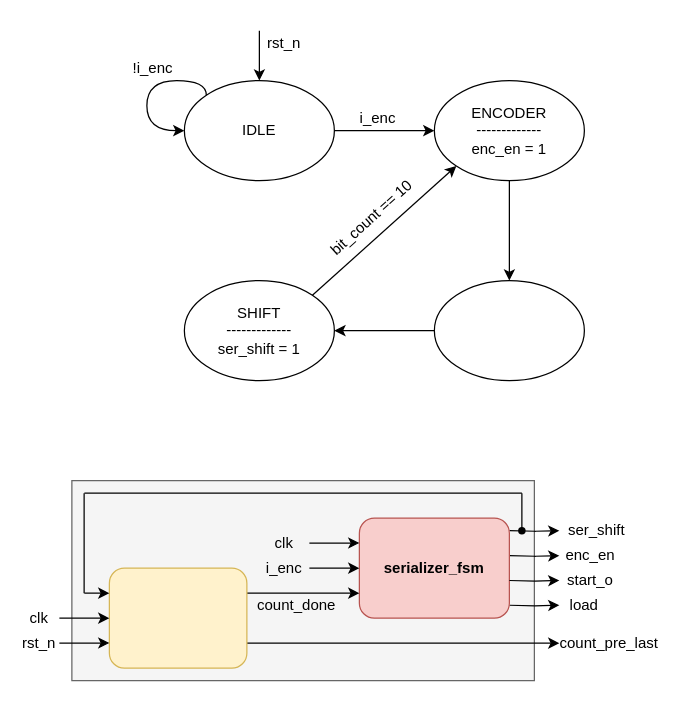
The diagram is 693 pixels wide and 703 high, and some of its shapes have lost their labels. The centre of each missing label's shape, as x and y in pixels:
"LOAD ------------- load = 1 start_o = 1" belongs at pixel 508 330.
"serializer_counter" belongs at pixel 177 617.
